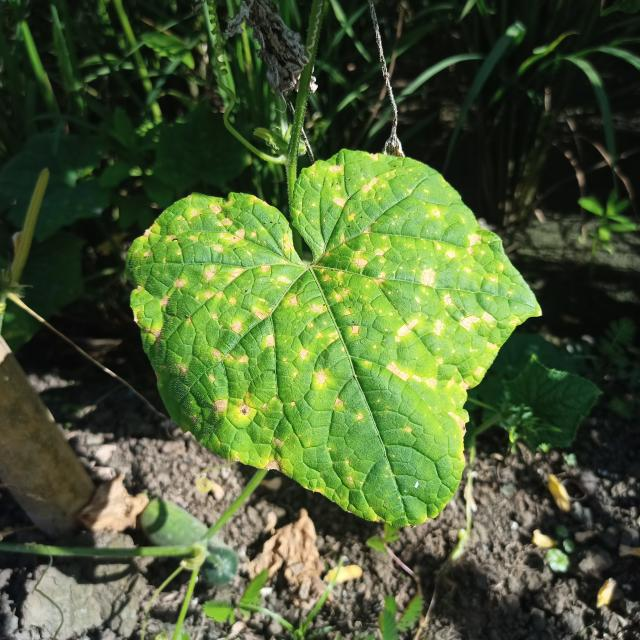disease_cucumber: (143, 160, 520, 506)
